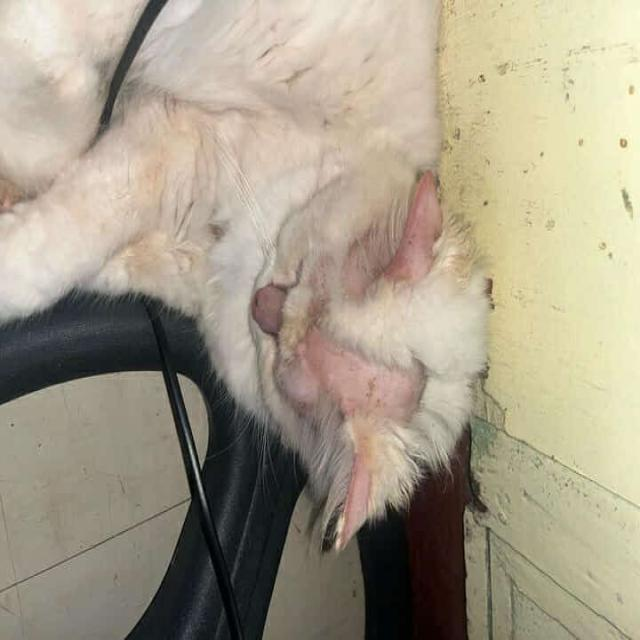Mange: (320, 355, 382, 408), (413, 196, 439, 253), (256, 286, 286, 326), (287, 360, 316, 396), (390, 374, 414, 410), (348, 248, 372, 279), (348, 481, 366, 513)
